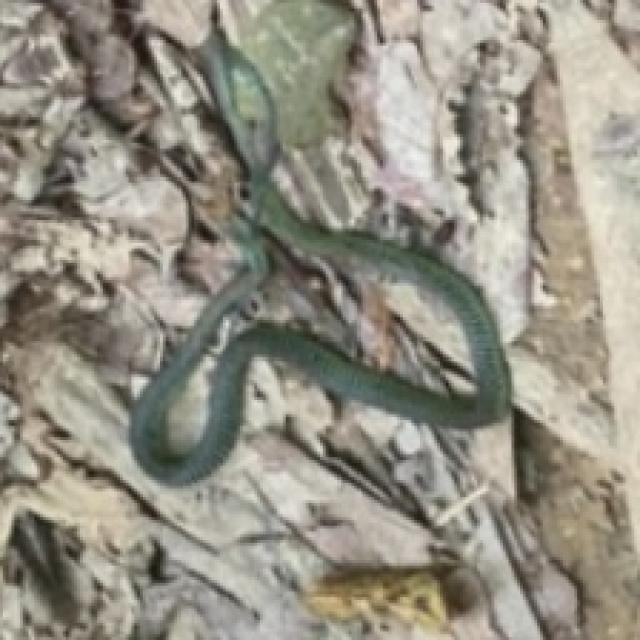paradise tree snake: (129, 29, 509, 483), (209, 234, 377, 366), (357, 274, 471, 391), (266, 0, 354, 120), (383, 306, 417, 346)
